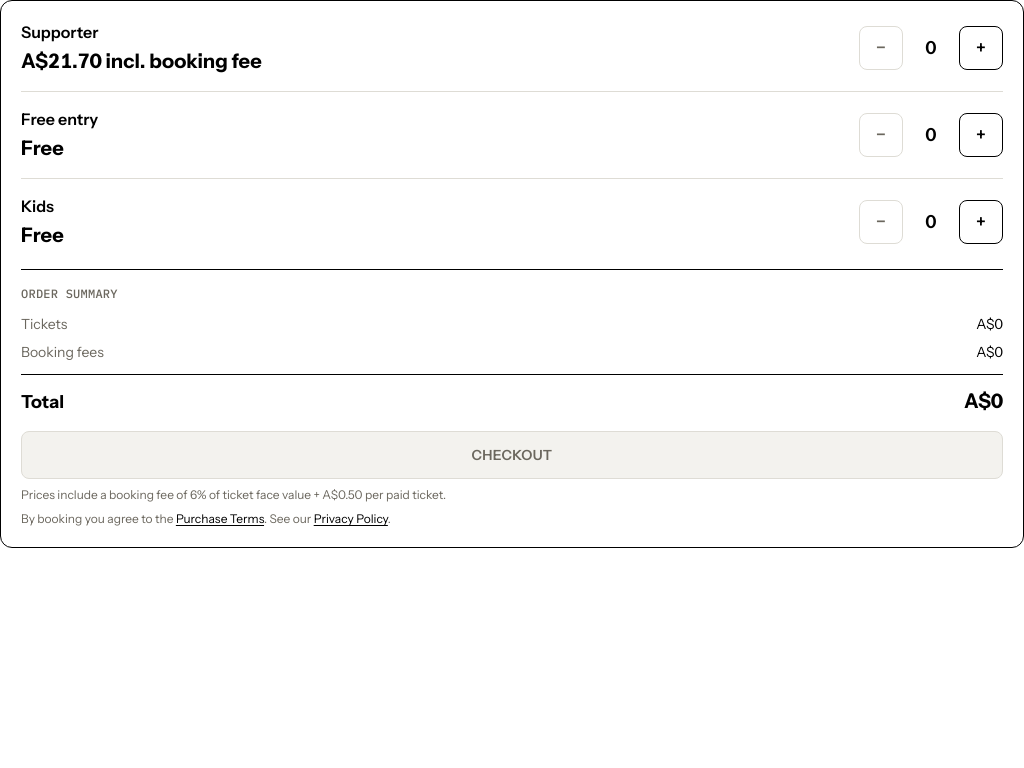
Test: TicketSelector (free tickets) › says the server's reason in full when a booking has too many free tickets
Click the button named "Increase quantity for Supporter".
click(981, 48)  # box [959,26,1003,70]
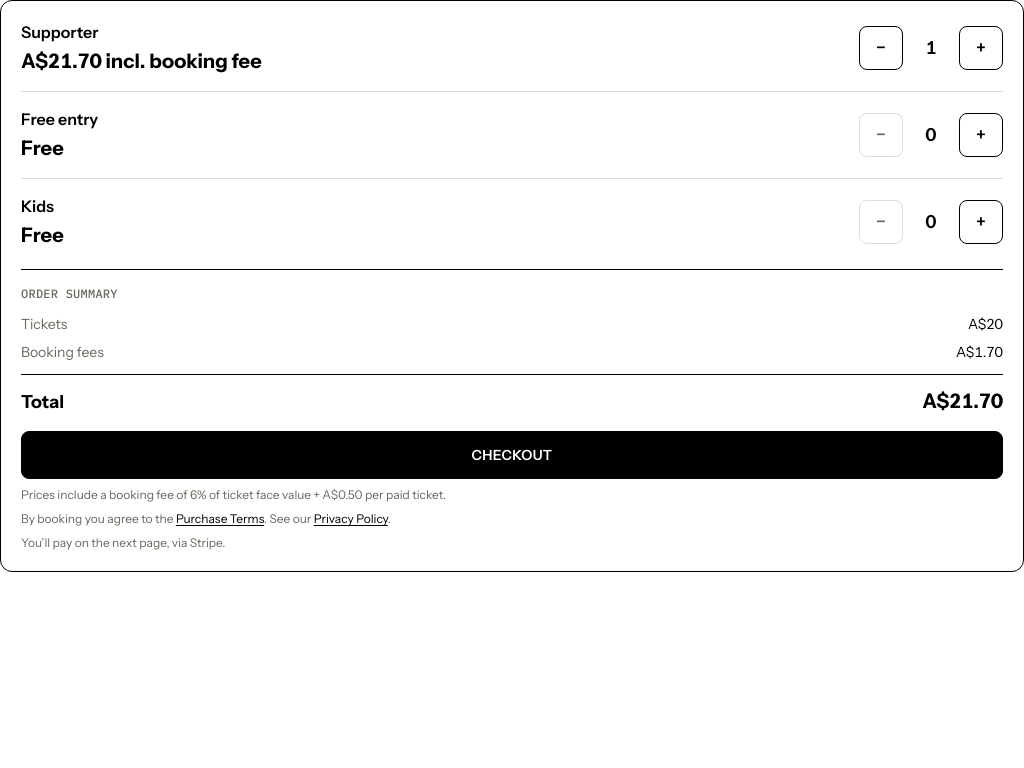
Click the button named "Increase quantity for Free entry".
click(981, 135)  # box [959,113,1003,157]
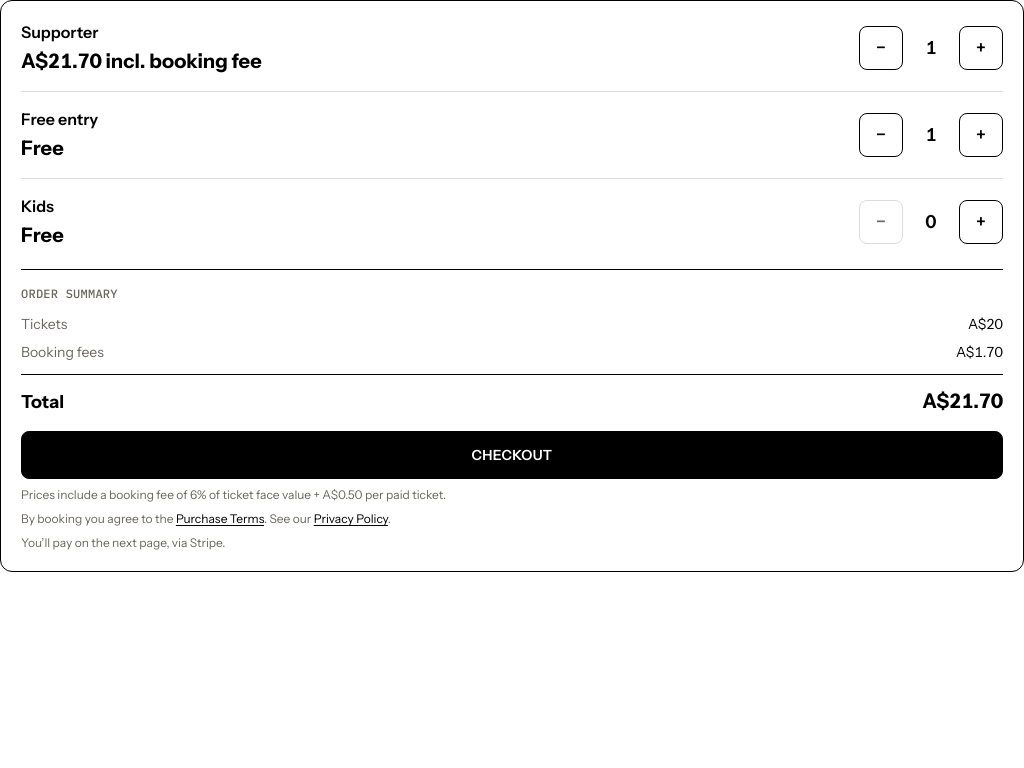
Click the button "Checkout".
click(512, 455)  # box [21,431,1003,479]
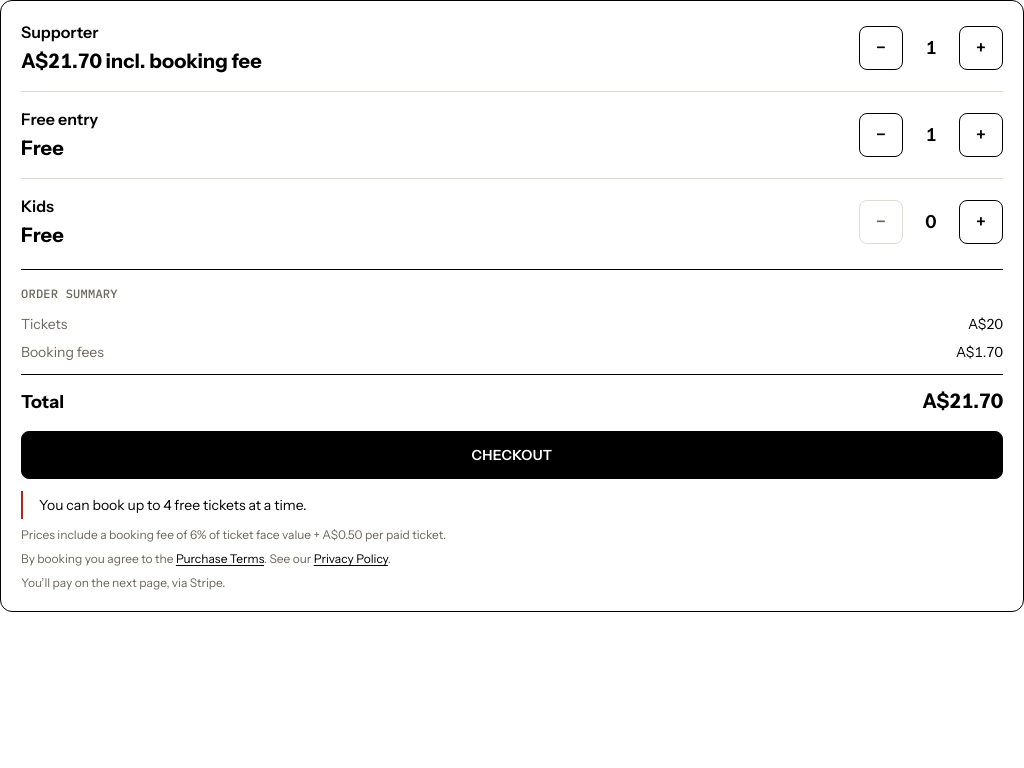
Expected: the message does not show "highlighted", [21,491,1003,519]
Now the message reads "You can book up to 4 free tickets at a time.", box [39,496,306,514]
# Changing the selection clears the stale refusal.
Click the button named "Decrease quantity for Free entry".
click(881, 135)  # box [859,113,903,157]
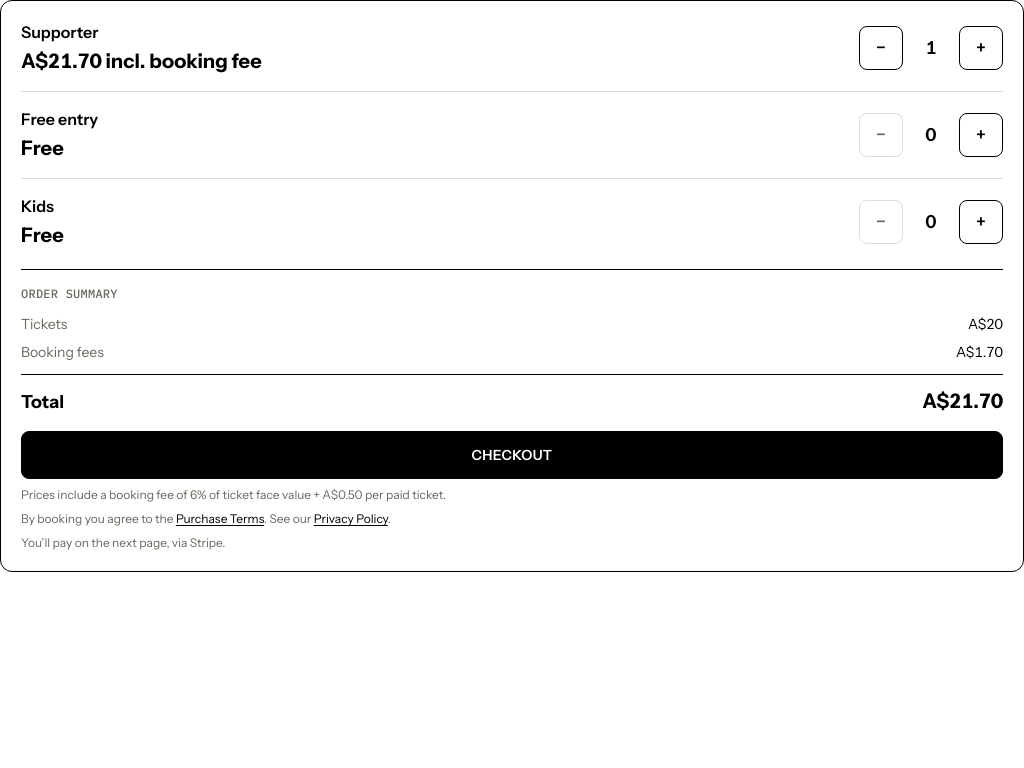
Now the message "You can book up to 4 free tickets at a time." is gone
